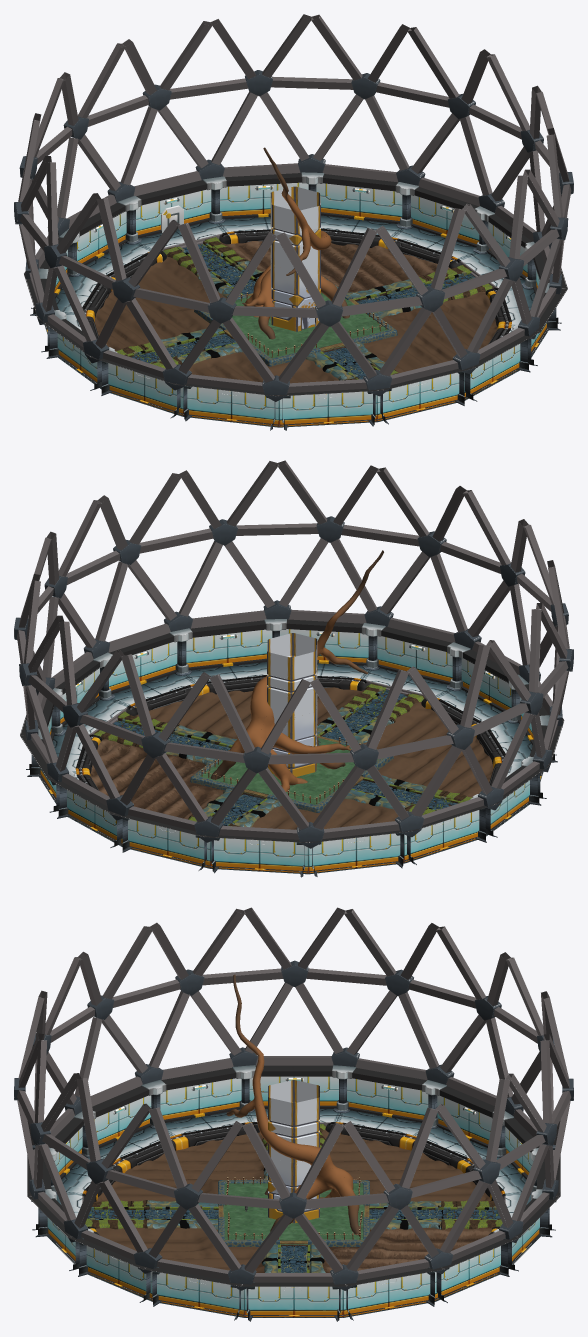
File: Arq_Dome.fbx
3 renders of one model, top to bottom at view 1: azimuth 30°, elevation 25°; view 2: azimuth 150°, elevation 25°; view 3: azimuth 270°, elevation 25°, orthographic.
Visible parts, largest first — view 1: Arq_Dome3, Plowed_Ground, Cross_Paths, Columns1, Ascensor, Rubber_circle, Central_Garden1, Floor_Slab, Tree, Stone_Wall_LP, lights_Doors; view 2: Arq_Dome3, Plowed_Ground, Cross_Paths, Columns1, Ascensor, Tree, Rubber_circle, Floor_Slab, Central_Garden1, Stone_Wall_LP; view 3: Arq_Dome3, Plowed_Ground, Columns1, Cross_Paths, Ascensor, Central_Garden1, Rubber_circle, Tree, Floor_Slab, Stone_Wall_LP.
Boxes of the visible parts, bbox=[...] form: Arq_Dome3: bbox=[14, 14, 573, 427]; Plowed_Ground: bbox=[94, 241, 497, 383]; Cross_Paths: bbox=[116, 237, 493, 380]; Columns1: bbox=[30, 172, 561, 430]; Ascensor: bbox=[270, 186, 320, 331]; Rubber_circle: bbox=[82, 228, 511, 344]; Central_Garden1: bbox=[225, 292, 387, 358]; Floor_Slab: bbox=[132, 244, 474, 379]; Tree: bbox=[242, 147, 349, 339]; Stone_Wall_LP: bbox=[194, 276, 397, 366]; lights_Doors: bbox=[93, 185, 511, 398]; Arq_Dome3: bbox=[14, 460, 573, 874]; Plowed_Ground: bbox=[90, 687, 493, 829]; Cross_Paths: bbox=[94, 683, 472, 827]; Columns1: bbox=[26, 619, 557, 877]; Ascensor: bbox=[267, 633, 317, 776]; Tree: bbox=[210, 550, 383, 791]; Rubber_circle: bbox=[75, 675, 505, 790]; Floor_Slab: bbox=[113, 690, 457, 825]; Central_Garden1: bbox=[200, 738, 378, 804]; Stone_Wall_LP: bbox=[190, 741, 393, 812]; Arq_Dome3: bbox=[14, 907, 573, 1317]; Plowed_Ground: bbox=[95, 1129, 492, 1272]; Columns1: bbox=[32, 1065, 555, 1321]; Cross_Paths: bbox=[85, 1124, 502, 1272]; Ascensor: bbox=[268, 1080, 319, 1223]; Central_Garden1: bbox=[223, 1183, 364, 1246]; Rubber_circle: bbox=[82, 1122, 505, 1235]; Tree: bbox=[226, 974, 360, 1235]; Floor_Slab: bbox=[87, 1209, 500, 1272]; Stone_Wall_LP: bbox=[218, 1179, 369, 1246].
Bounding box in the file's own units: 28.55 × 12.39 × 28.55.
